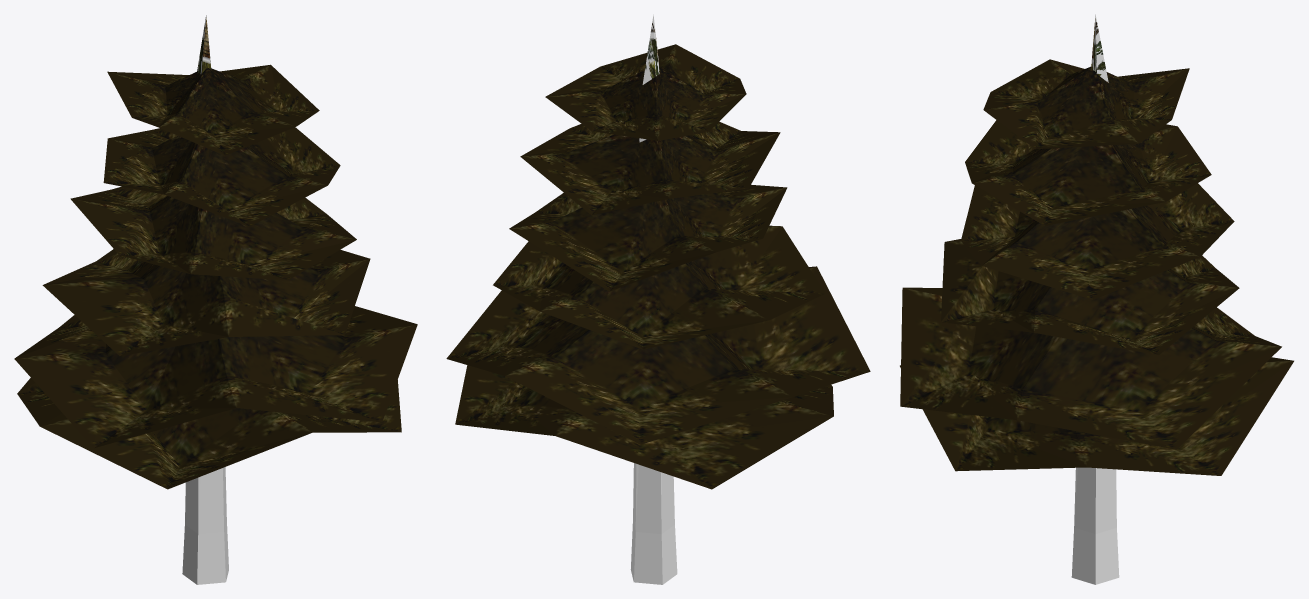
The model's file is tree_new01.fbx.
3 renders of one model, left to right at view 1: azimuth 30°, elevation 25°; view 2: azimuth 150°, elevation 25°; view 3: azimuth 270°, elevation 25°, orthographic.
Visible parts, largest first — view 1: tree_new01; view 2: tree_new01; view 3: tree_new01.
Boxes of the visible parts, x1,y1,x2,y2 form: tree_new01: (14, 15, 417, 584); tree_new01: (446, 14, 870, 584); tree_new01: (900, 14, 1293, 584).
Size of the model in its own units: 948 by 1424 by 911.
